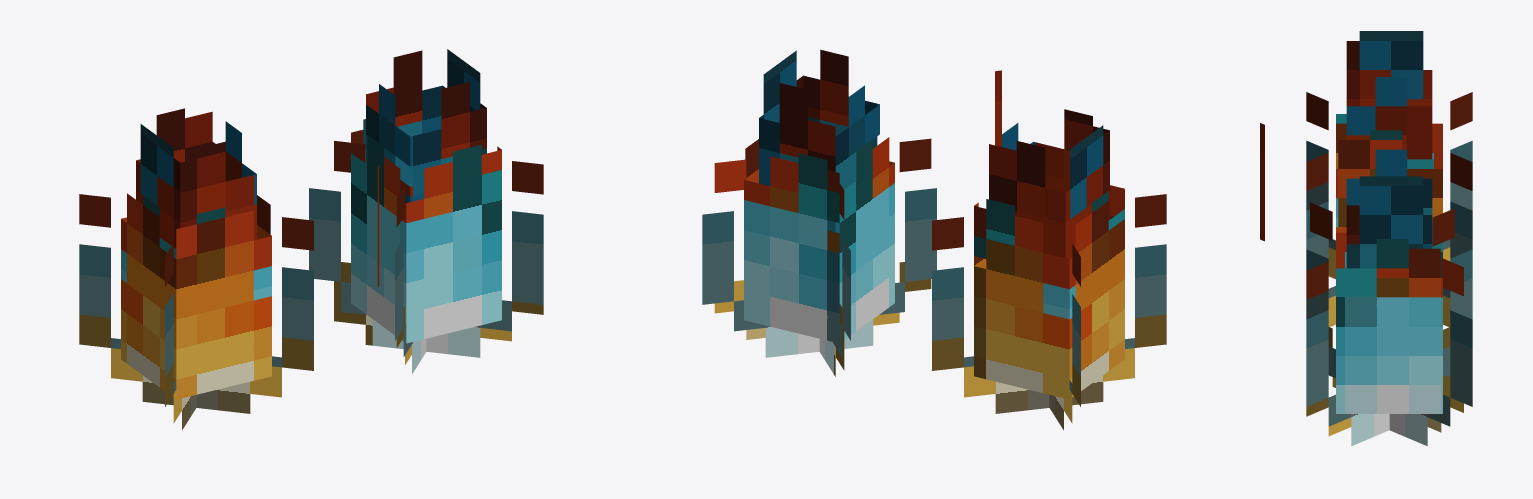
Rendered from sl_mixed_fire_fists.glb.
The picture shows the model from 3 angles, left to right: view 1: azimuth 30°, elevation 25°; view 2: azimuth 150°, elevation 25°; view 3: azimuth 270°, elevation 25°; orthographic projection. The views are drawn at different scales.
Parts seen in each view (by area): view 1: bb_mixed_fire_fists; view 2: bb_mixed_fire_fists; view 3: bb_mixed_fire_fists.
Part boxes in pixels (x1=…): bb_mixed_fire_fists: x1=79, y1=49, x2=543, y2=430; bb_mixed_fire_fists: x1=702, y1=49, x2=1166, y2=430; bb_mixed_fire_fists: x1=1260, y1=31, x2=1472, y2=446.
Size of the model in its own units: 1.5 by 0.875 by 0.7544.
Materials: 1 (1 with a texture image).
